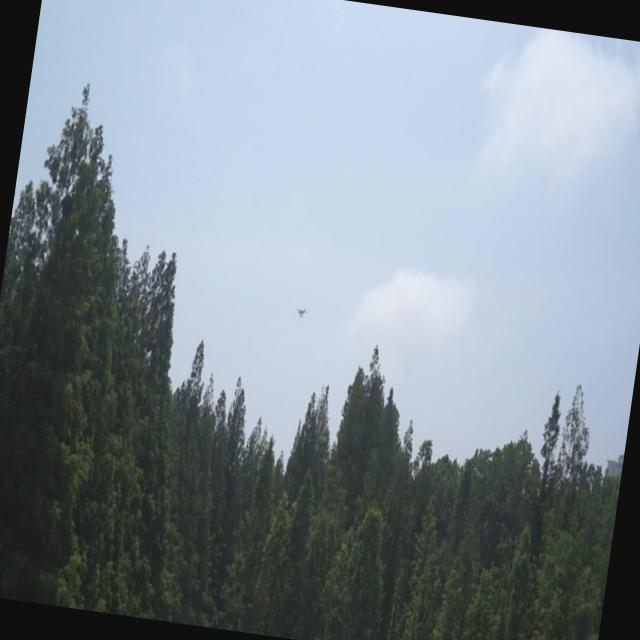drone: (294, 301, 310, 321)
